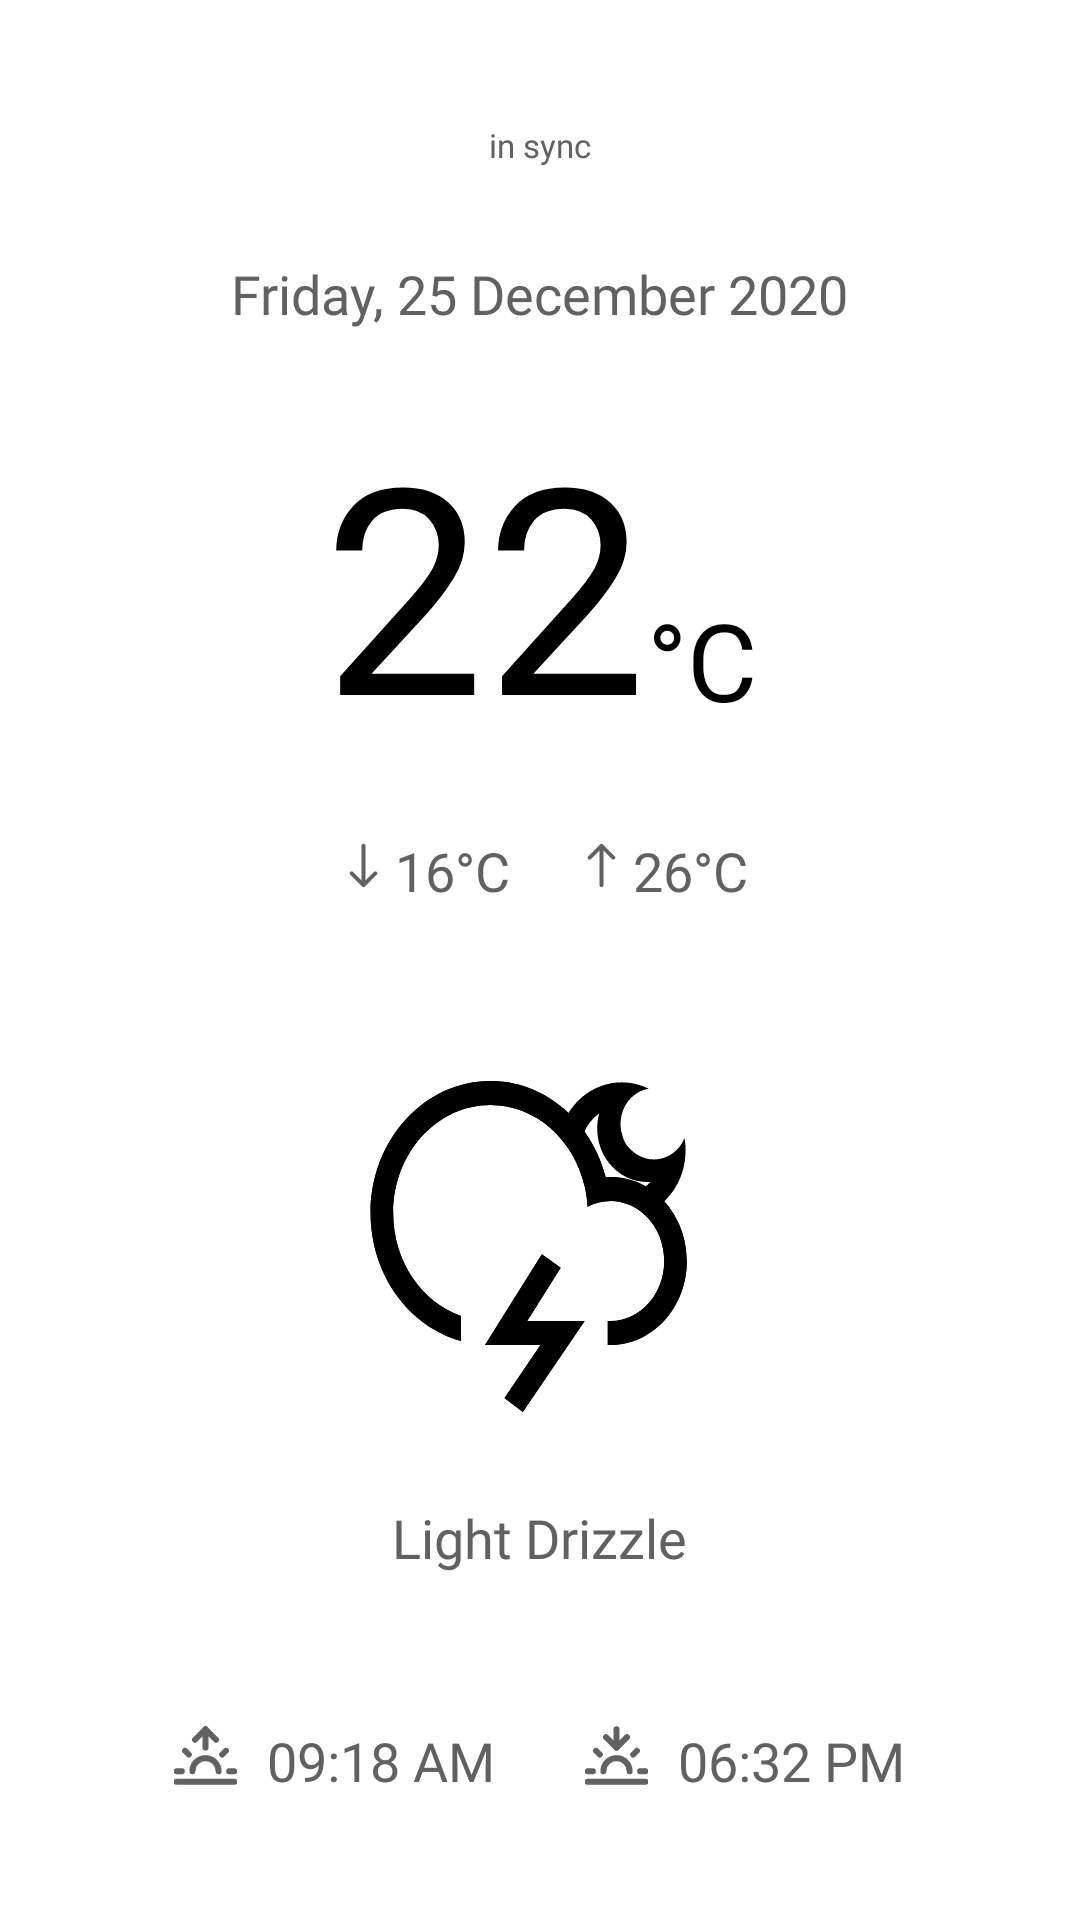

Named icons in this screenshot (1080×1920) and their centers, (x=x, y=y):
downarrow: (x=363, y=865)
sunrise: (x=205, y=1755)
sunset: (x=616, y=1755)
thunderstorm night: (x=528, y=1246)
uparrow: (x=601, y=865)
